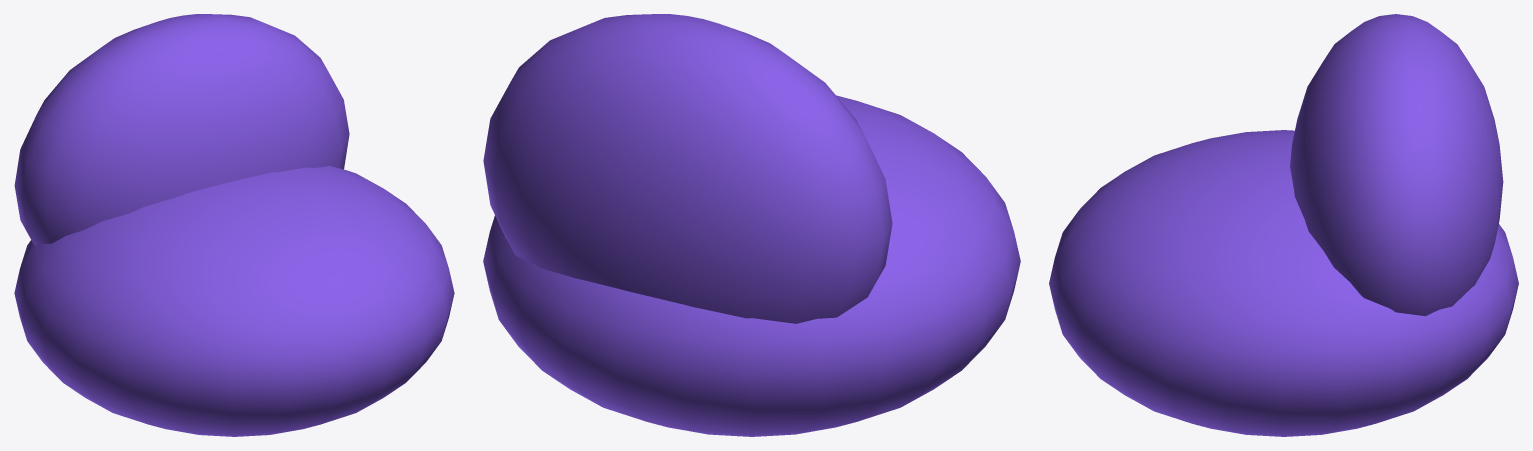
The model's file is beanbag.glb.
3 renders of one model, left to right at view 1: azimuth 30°, elevation 25°; view 2: azimuth 150°, elevation 25°; view 3: azimuth 270°, elevation 25°, orthographic. The views are drawn at different scales.
Visible parts, largest first — view 1: Beanbag; view 2: Beanbag; view 3: Beanbag.
Part boxes in pixels (x1,y1,x2,y2): Beanbag: (14,14,454,436); Beanbag: (483,14,1020,436); Beanbag: (1049,14,1518,436).
Bounding box in the file's own units: 0.84 × 0.719 × 0.84.
